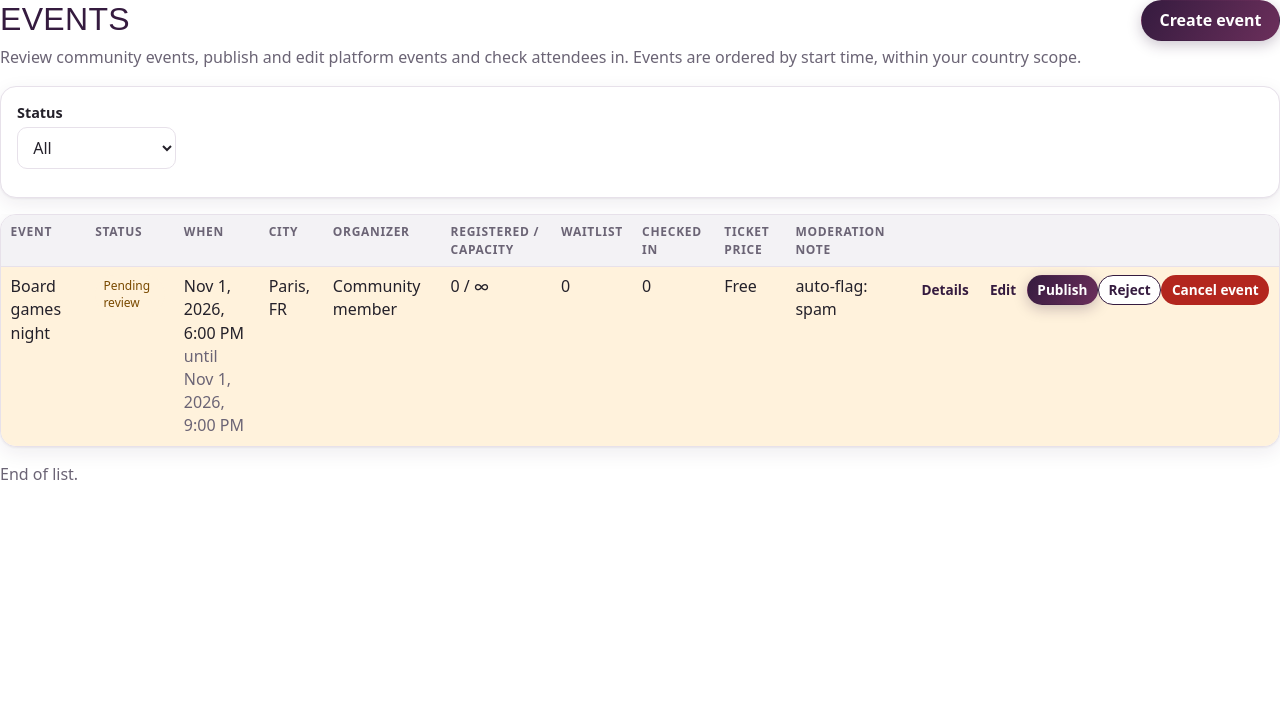
Scenario: EventsPage actions › shows a conflict from the API inside the decision dialog
The width and height of the screenshot is (1280, 720).
Step 1. Click the button "Reject" → point(1130, 290), box [1098,275,1161,305]
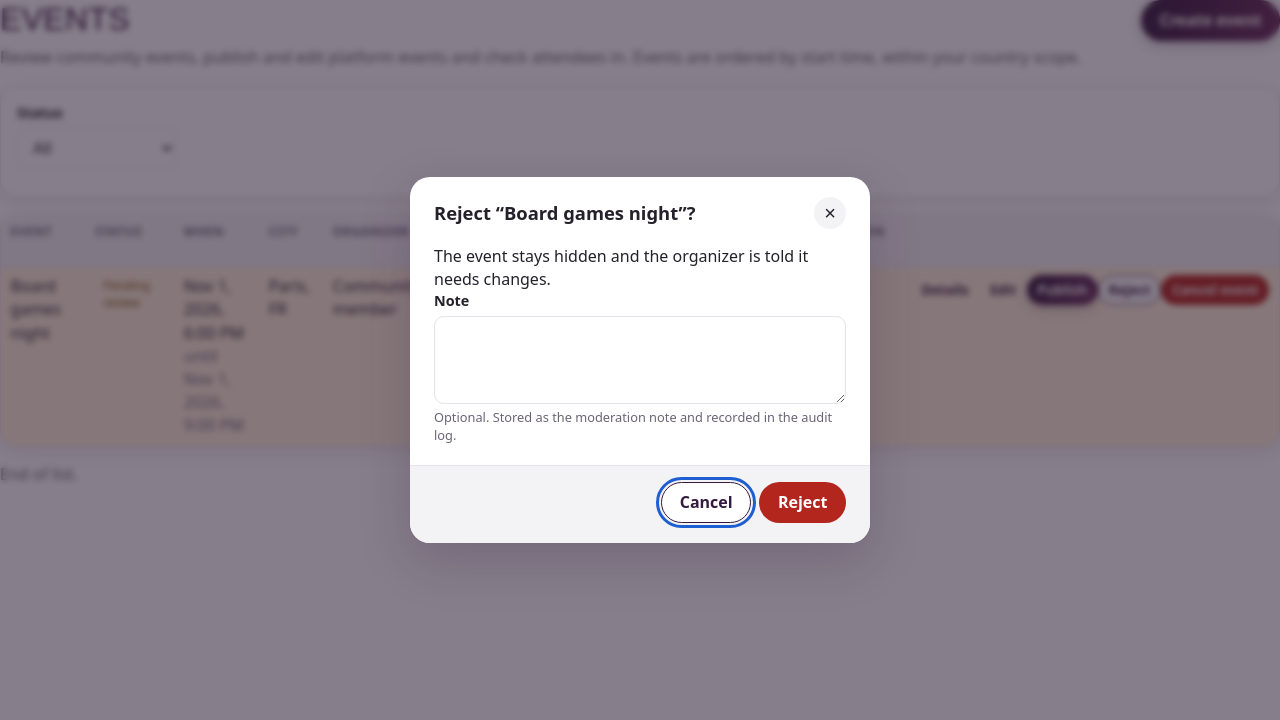
Step 2. Click the button "Reject" → point(803, 502), box [759,482,846,523]
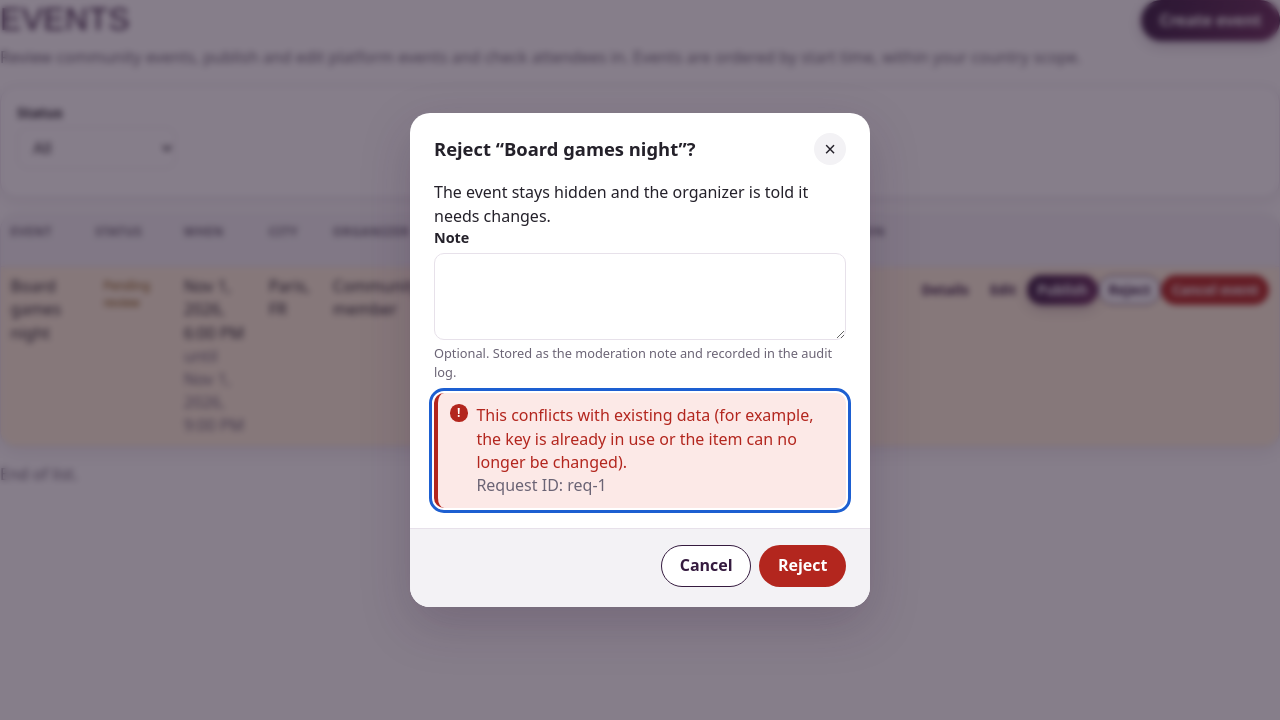
Now the text "This conflicts with existing data (for example, the key is already in use or the item can no longer be changed)." is shown, box [476,404,814,473]
